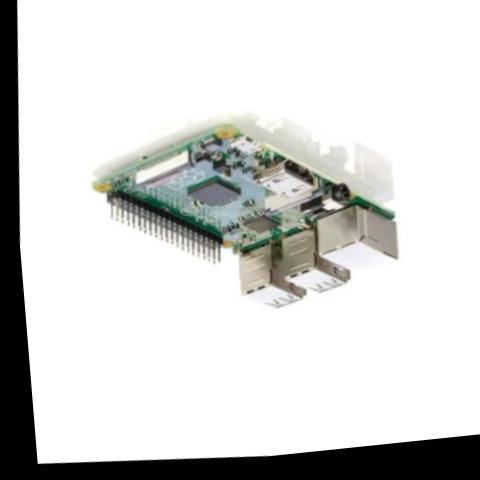Raspberry-Pi-1-Model-B-: (68, 95, 410, 343)
